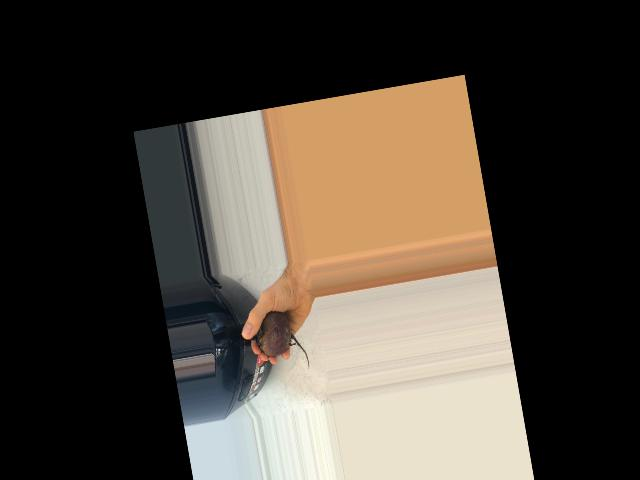beet: (247, 307, 310, 377)
